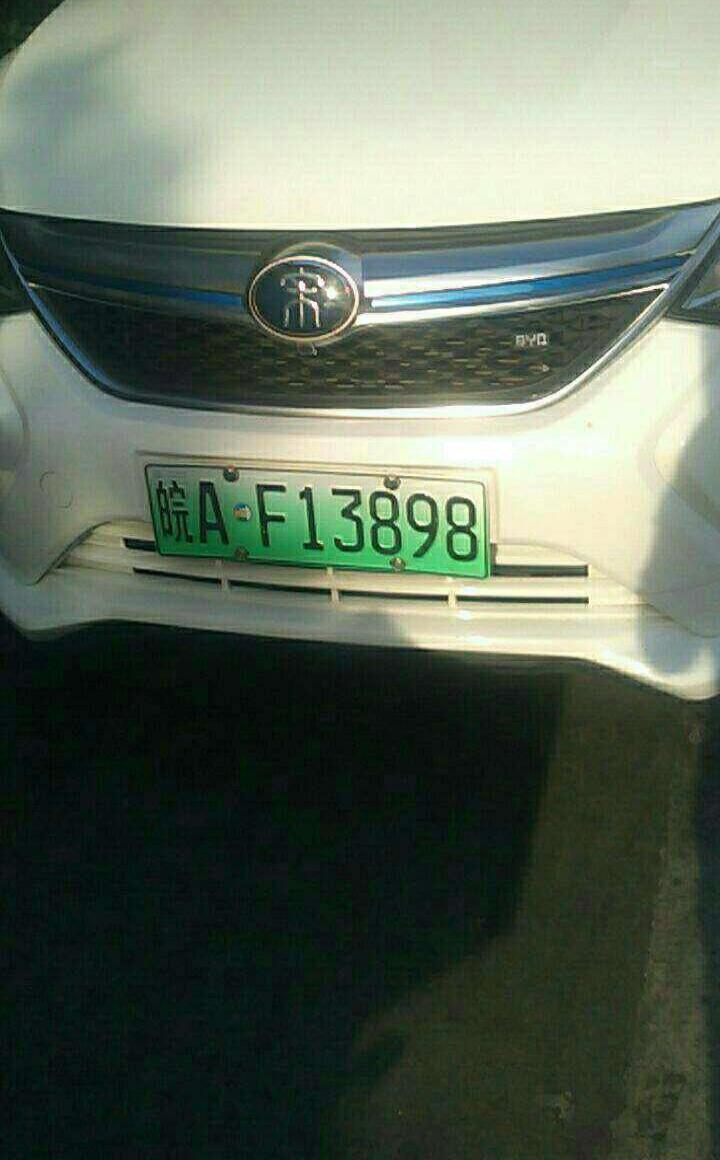car_id: (140, 470, 486, 575)
